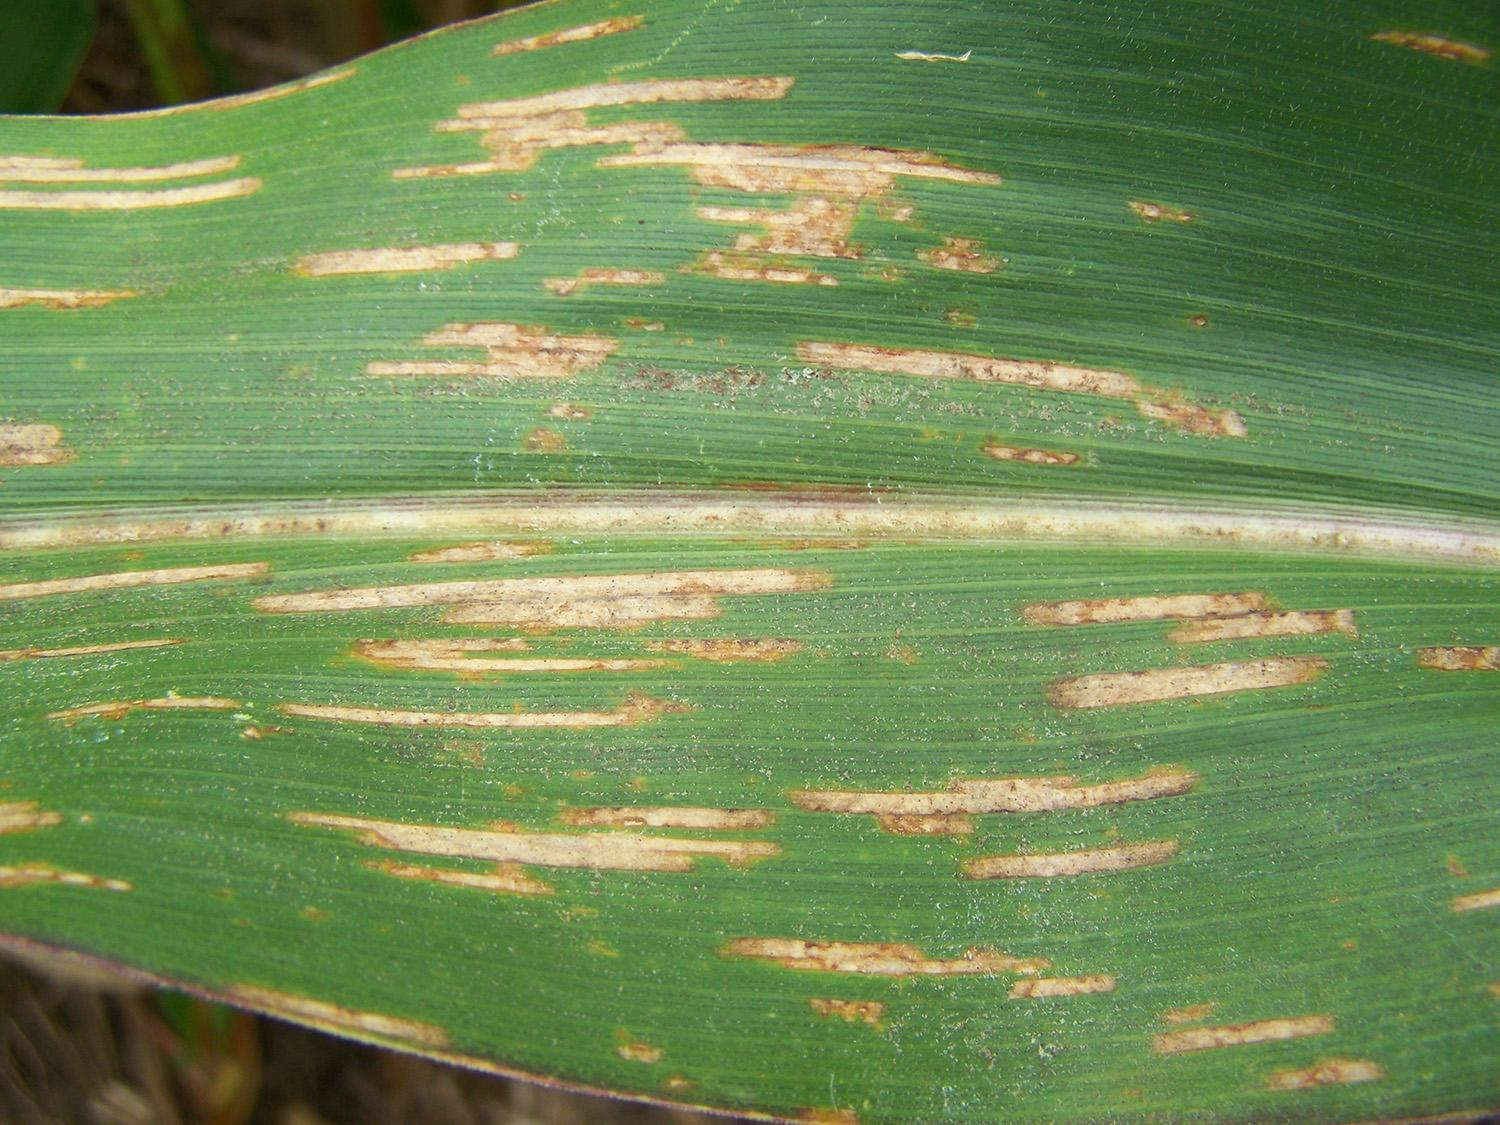Corn_Blight: (282, 65, 1294, 464), (11, 515, 887, 735), (990, 538, 1500, 720), (174, 973, 667, 1112), (681, 900, 1129, 1051), (259, 756, 761, 887), (772, 742, 1239, 883), (1133, 993, 1400, 1118), (6, 126, 270, 230), (4, 773, 154, 928), (1355, 18, 1500, 85), (461, 12, 660, 52), (9, 264, 159, 312), (9, 402, 96, 480), (1444, 850, 1500, 937)
